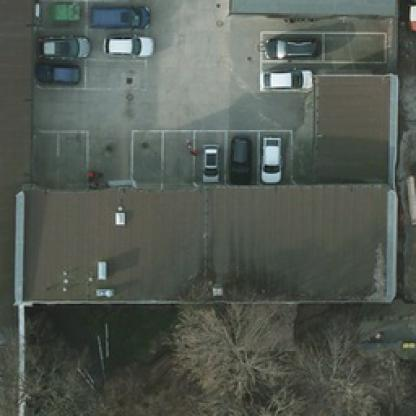car: (263, 36, 322, 61), (257, 66, 312, 92), (226, 128, 252, 182), (36, 58, 82, 86), (101, 34, 154, 57), (255, 136, 280, 182), (38, 36, 90, 58), (200, 138, 220, 182)
van: (86, 2, 150, 30)
